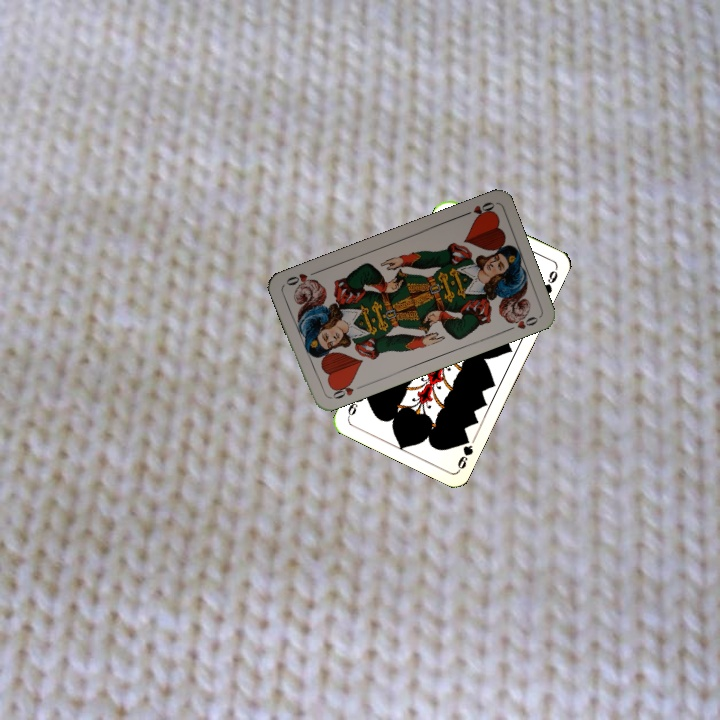G9: (453, 432, 476, 473)
HO: (325, 377, 365, 402), (458, 198, 497, 221)
